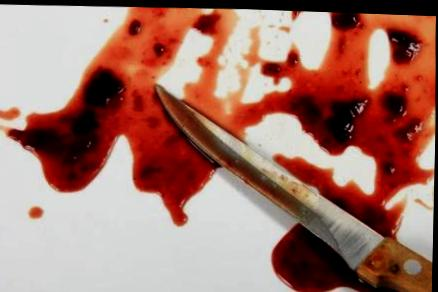Fire: (6, 5, 435, 234), (271, 222, 396, 292)
